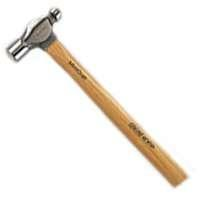hammer: (4, 4, 189, 189)
